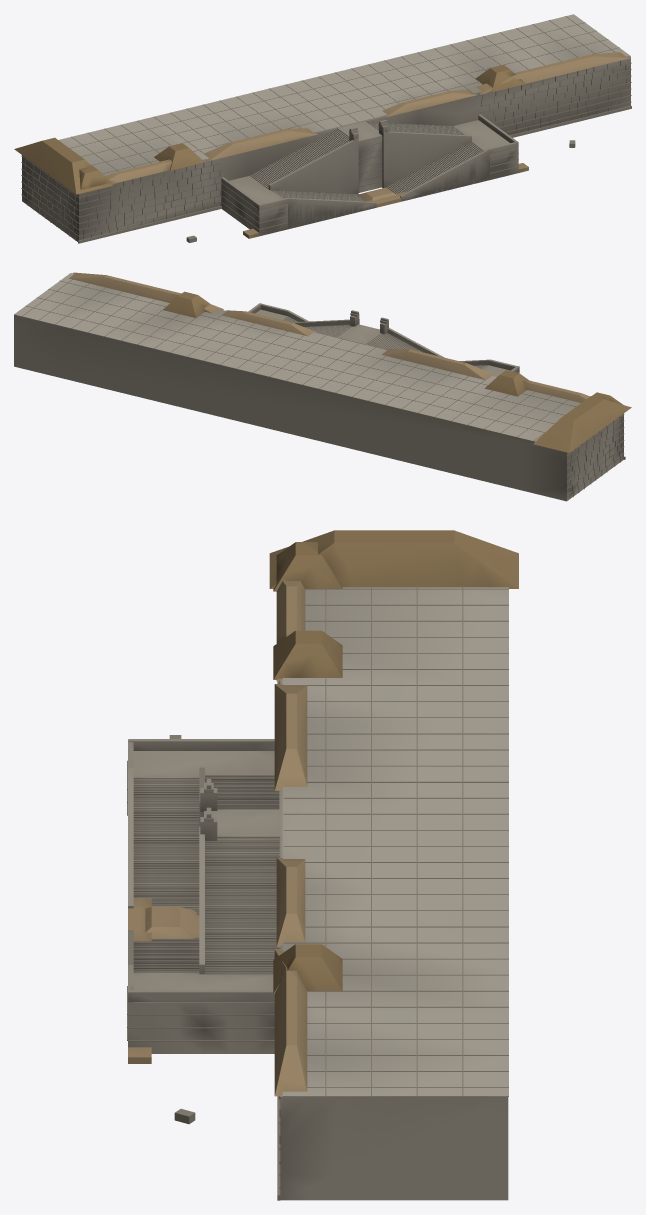
Rendered from takht-ruin.glb.
3 renders of one model, top to bottom at view 1: azimuth 30°, elevation 25°; view 2: azimuth 150°, elevation 25°; view 3: azimuth 270°, elevation 25°, orthographic. The views are drawn at different scales.
Parts seen in each view (by area): view 1: p0_terrace, p1_fortification; view 2: p0_terrace, p1_fortification; view 3: p0_terrace, p1_fortification.
Boxes of the visible parts, <box> form: p0_terrace: <box>21,14,631,243</box>; p1_fortification: <box>14,52,630,242</box>; p0_terrace: <box>14,273,625,501</box>; p1_fortification: <box>69,272,631,452</box>; p0_terrace: <box>127,586,508,1200</box>; p1_fortification: <box>128,530,518,1124</box>.
Bounding box in the file's own units: 135 × 16 × 41.2.
